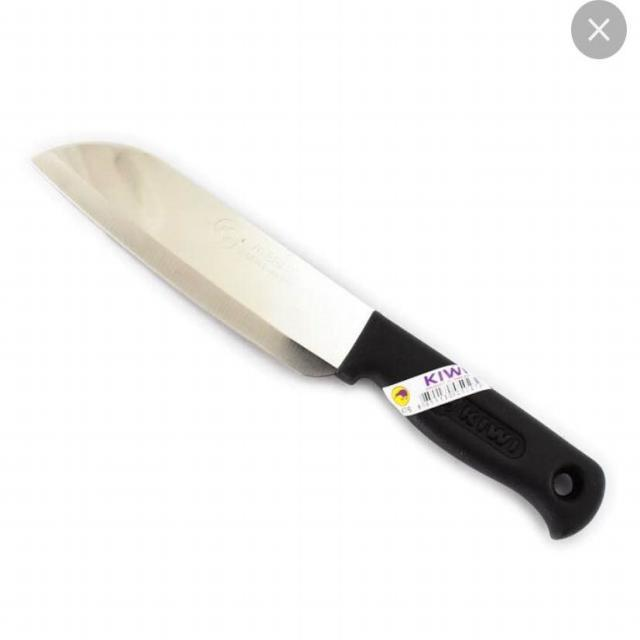Knife: (28, 136, 608, 546)
